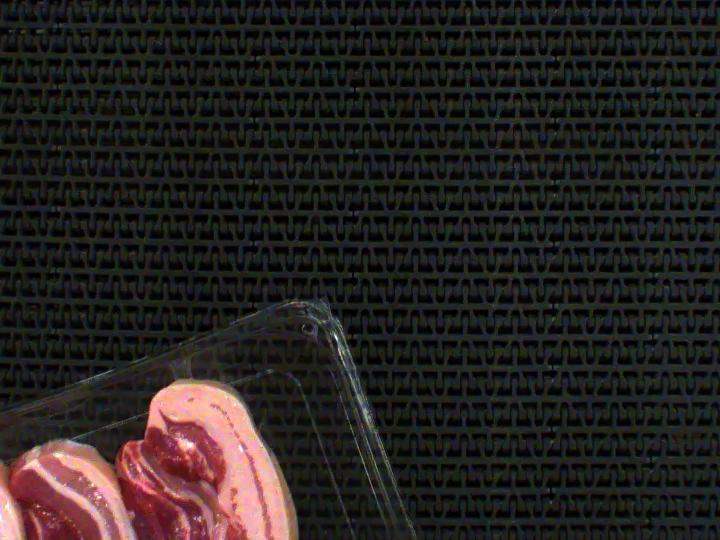packaging-error: (161, 354, 206, 386)
